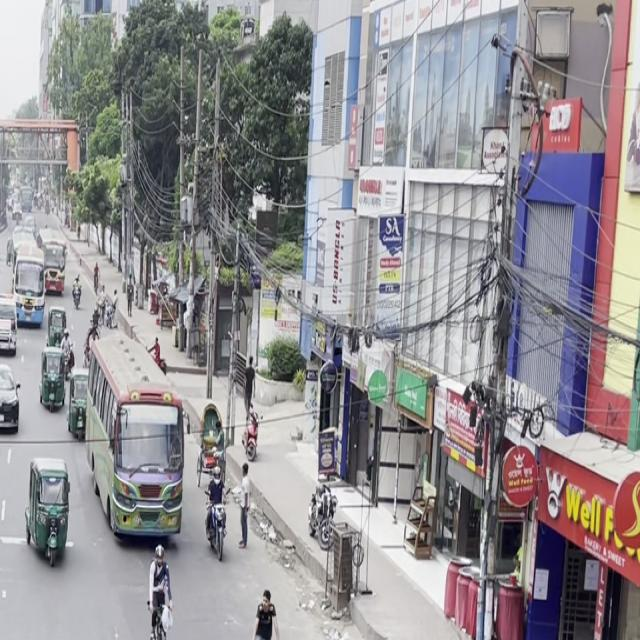bicycle: (144, 540, 176, 640), (248, 624, 280, 640)
car: (305, 629, 472, 640), (0, 358, 22, 441), (101, 632, 259, 640), (0, 313, 21, 360)
motorbike: (202, 479, 231, 563), (244, 411, 264, 460)
rickshaw: (23, 458, 75, 568), (38, 346, 68, 411)
